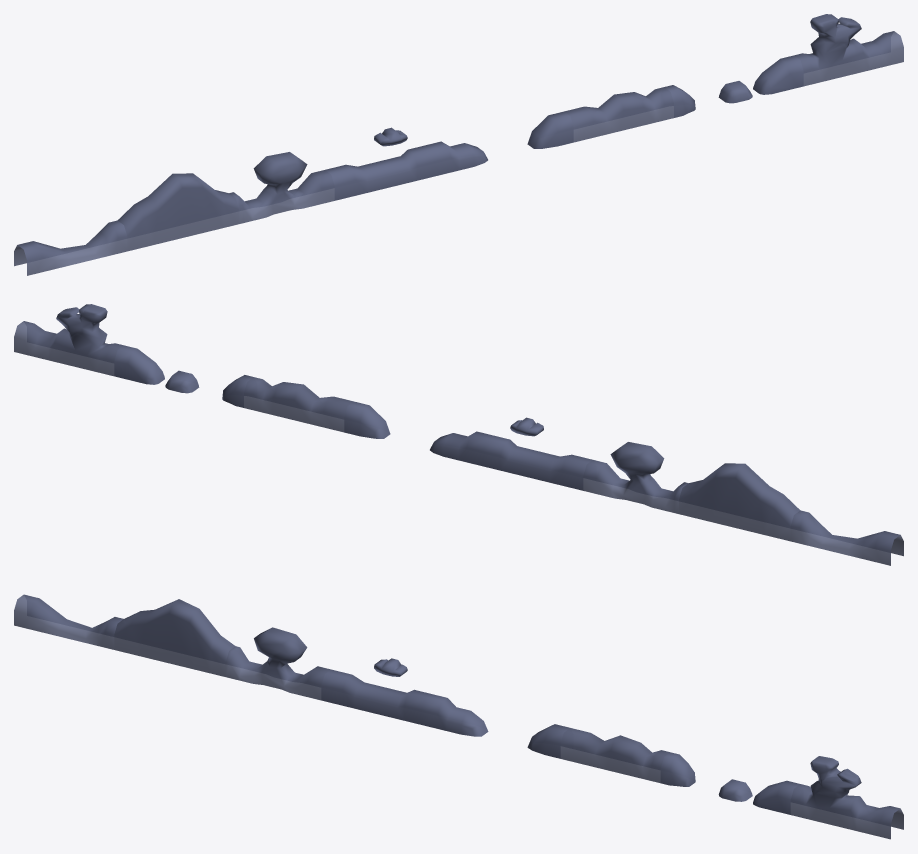
The model's file is SmoothV2.fbx.
3 renders of one model, top to bottom at view 1: azimuth 30°, elevation 25°; view 2: azimuth 150°, elevation 25°; view 3: azimuth 330°, elevation 25°, orthographic.
Parts seen in each view (by area): view 1: SlopeUp, PlateauLeft, PlateauMiddle, Flat, F1, SlopeDown, I3, C1, C2, I1, I2; view 2: SlopeUp, PlateauLeft, PlateauMiddle, Flat, F1, SlopeDown, I3, C1, C2, I1, I2; view 3: SlopeUp, PlateauLeft, PlateauMiddle, Flat, F1, SlopeDown, C1, I3, I1, C2, I2.
Part boxes in pixels (x1,y1,x2,y2): SlopeUp: (117,173,238,251); PlateauLeft: (794,14,903,86); PlateauMiddle: (229,152,334,223); Flat: (564,87,673,142); F1: (325,145,434,200); SlopeDown: (14,220,127,275); I3: (753,55,803,94); C1: (425,141,487,176); C2: (527,111,573,148); I1: (664,85,695,117); I2: (718,81,752,103); SlopeUp: (679,463,800,541); PlateauLeft: (14,304,123,376); PlateauMiddle: (583,442,688,513); Flat: (244,377,353,432); F1: (483,435,592,490); SlopeDown: (790,510,903,565); I3: (114,345,164,384); C1: (430,431,492,466); C2: (344,401,390,438); I1: (222,375,253,407); I2: (165,370,199,393); SlopeUp: (114,599,235,676); PlateauLeft: (790,756,903,839); PlateauMiddle: (225,627,330,700); Flat: (560,728,669,783); F1: (321,669,430,724); SlopeDown: (14,594,123,649); C1: (421,694,488,736); I3: (753,780,800,814); I1: (660,752,695,786); C2: (527,724,569,758); I2: (718,779,752,801).
Size of the model in its own units: 385 by 24.04 by 10.05.
